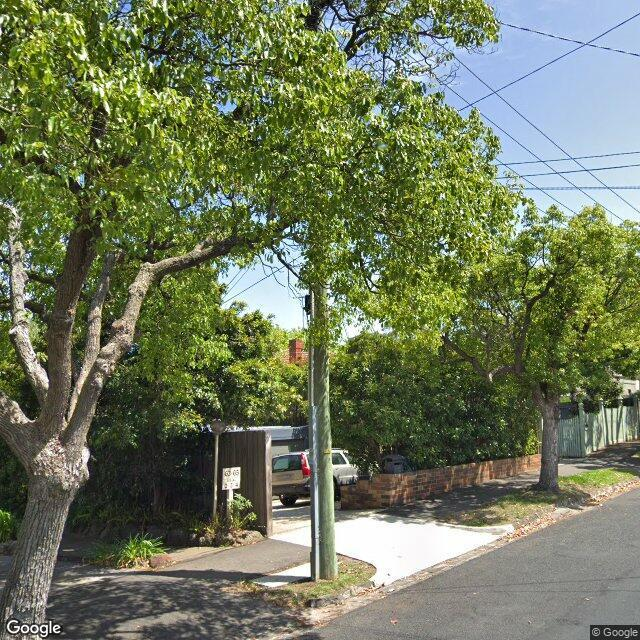timber-pole: (312, 245, 341, 577)
